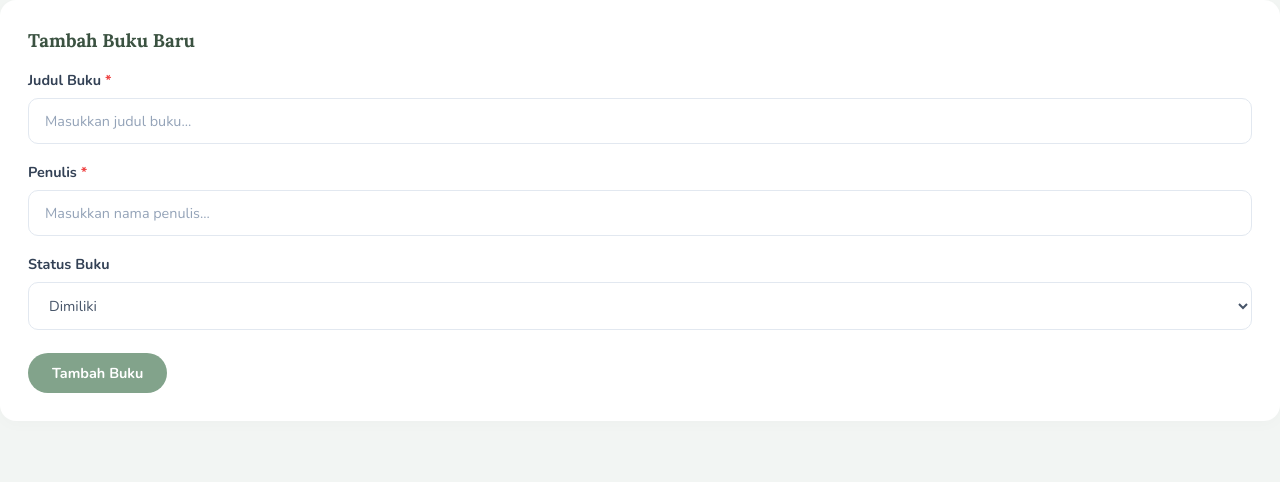
Test: Pengujian Komponen BookForm › 2. Menampilkan pesan error validasi jika input kosong
Click the button "Tambah Buku".
click(98, 373)  # box x1=28 y1=353 x2=167 y2=393
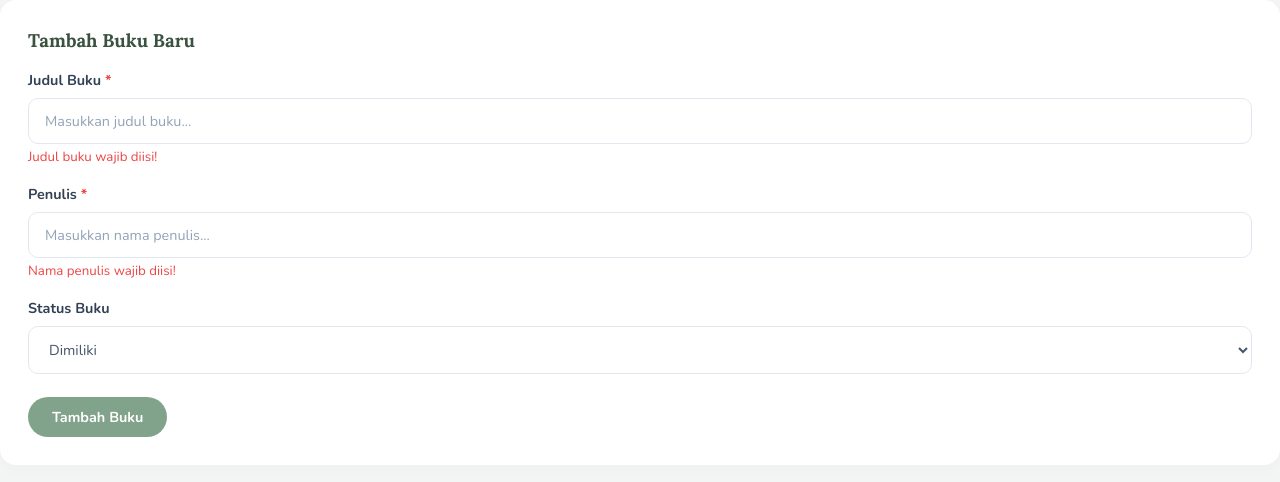
Result: the text "Judul buku wajib diisi!" is shown at x1=28 y1=148 x2=157 y2=166
Result: the text "Nama penulis wajib diisi!" is shown at x1=28 y1=262 x2=176 y2=280
